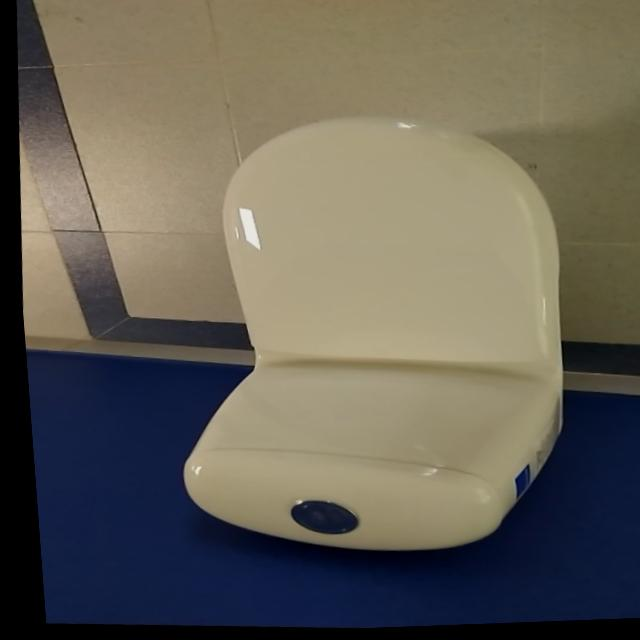toilet: (149, 104, 581, 570)
